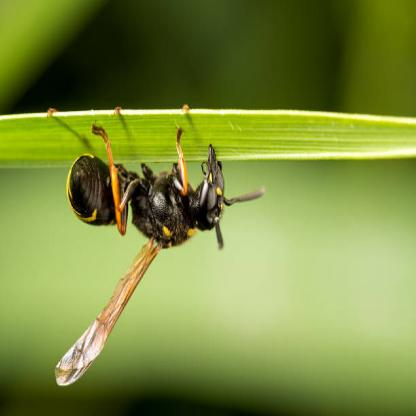sawfly: (40, 93, 270, 392)
